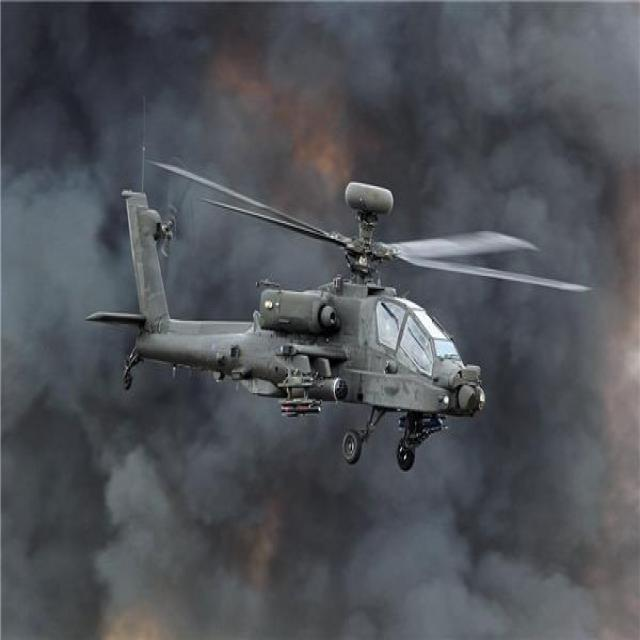MIL_HELO: (89, 134, 595, 505)
